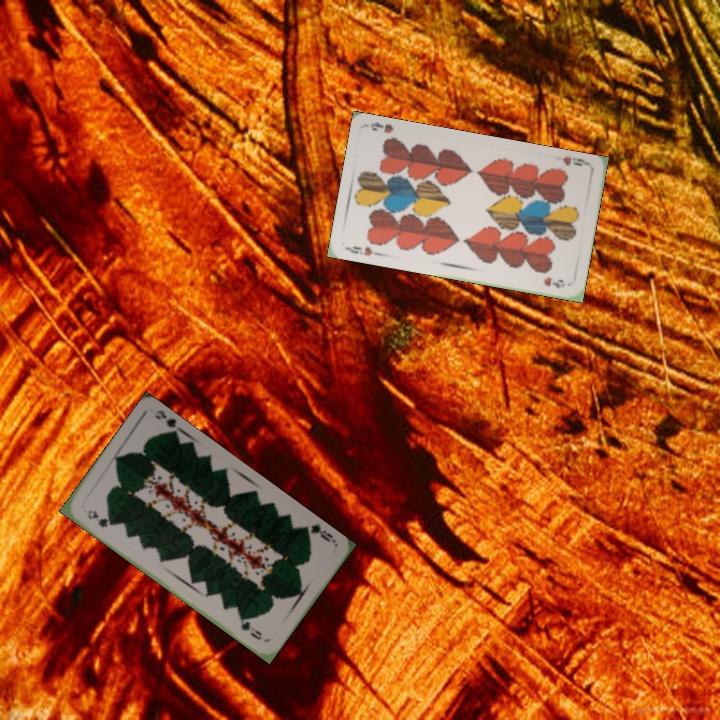G9: (299, 520, 338, 545), (83, 506, 115, 530)
H9: (559, 152, 591, 169), (343, 242, 375, 258)
